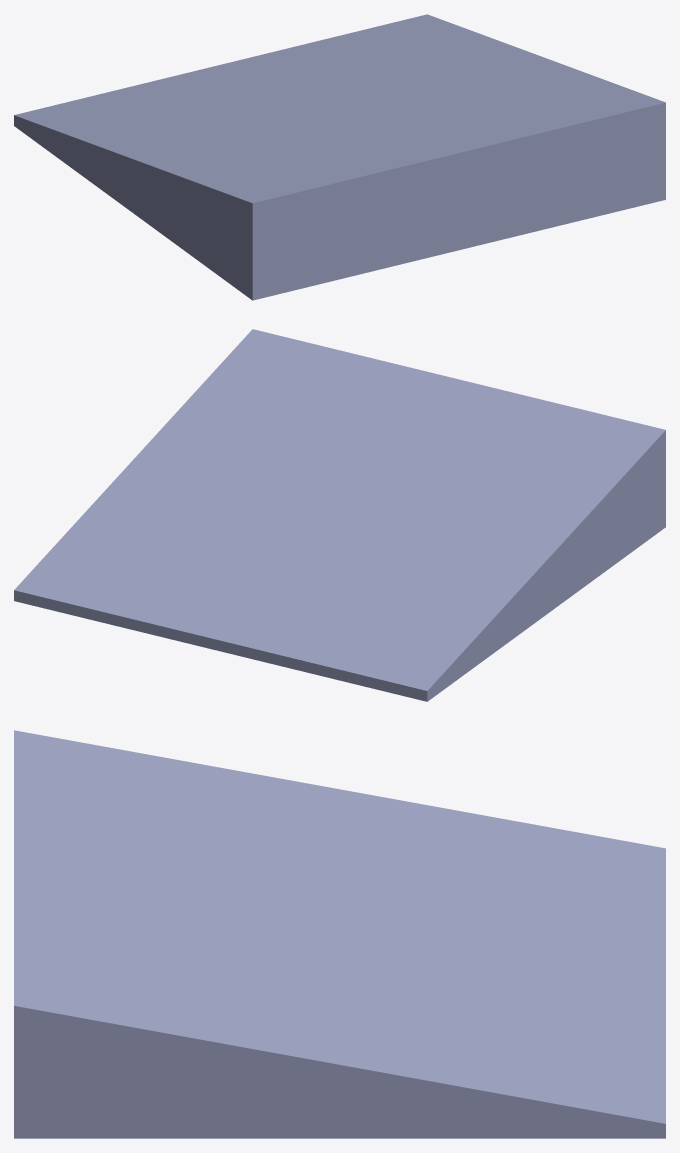
The model's file is road-slope.glb.
The picture shows the model from 3 angles, top to bottom: view 1: azimuth 30°, elevation 25°; view 2: azimuth 150°, elevation 25°; view 3: azimuth 270°, elevation 25°; orthographic projection. The views are drawn at different scales.
Parts seen in each view (by area): view 1: road-slope; view 2: road-slope; view 3: road-slope.
Boxes of the visible parts, <box> form: road-slope: <box>14,14,665,300</box>; road-slope: <box>14,329,665,701</box>; road-slope: <box>14,730,665,1138</box>.
Size of the model in its own units: 1 by 0.225 by 1.
1 material, 1 textured.
